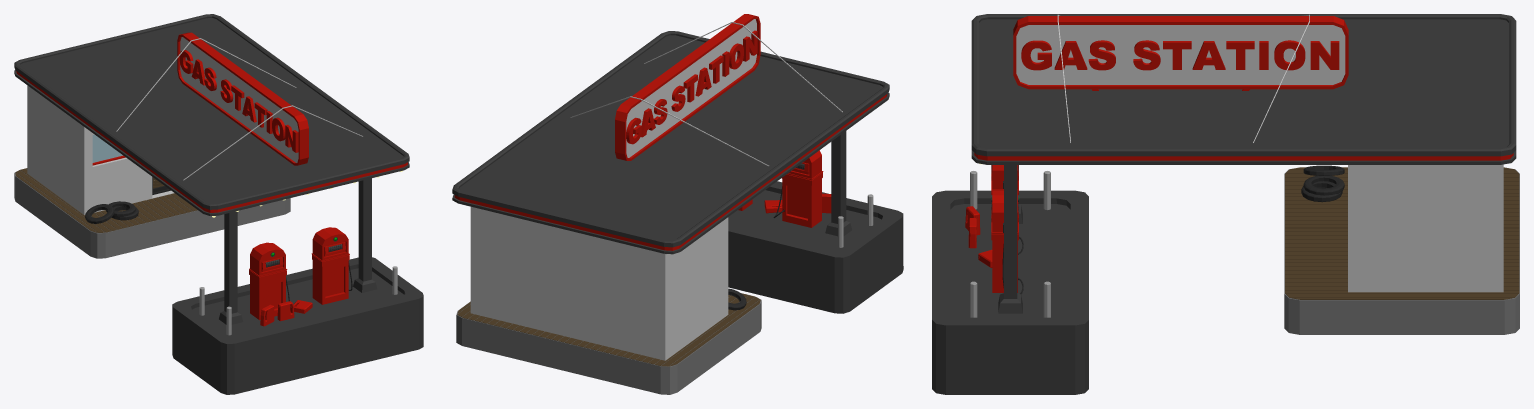
File: gas.glb
3 renders of one model, left to right at view 1: azimuth 30°, elevation 25°; view 2: azimuth 150°, elevation 25°; view 3: azimuth 270°, elevation 25°, orthographic. The views are drawn at different scales.
Parts seen in each view (by area): view 1: Gas Station; view 2: Gas Station; view 3: Gas Station.
Boxes of the visible parts, left/top/right/bottom form: Gas Station: left=14, top=14, right=423, bottom=394; Gas Station: left=452, top=14, right=903, bottom=394; Gas Station: left=932, top=14, right=1519, bottom=394.
Size of the model in its own units: 6.44 by 6.89 by 11.68.
